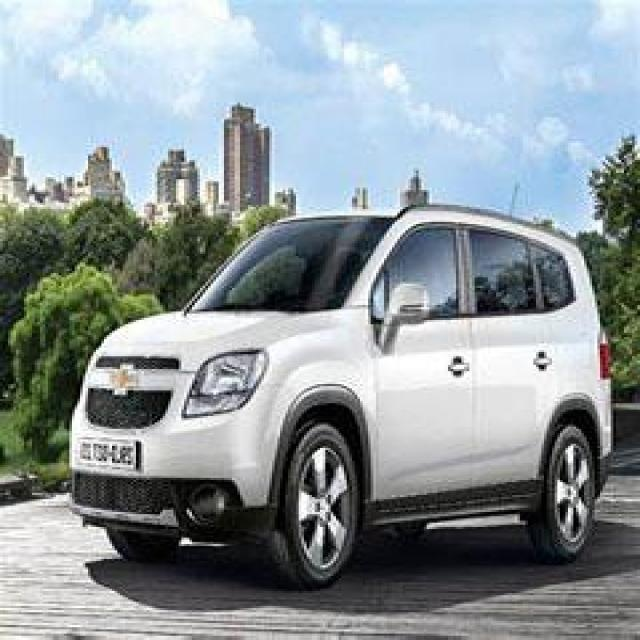car: (27, 166, 632, 614)
